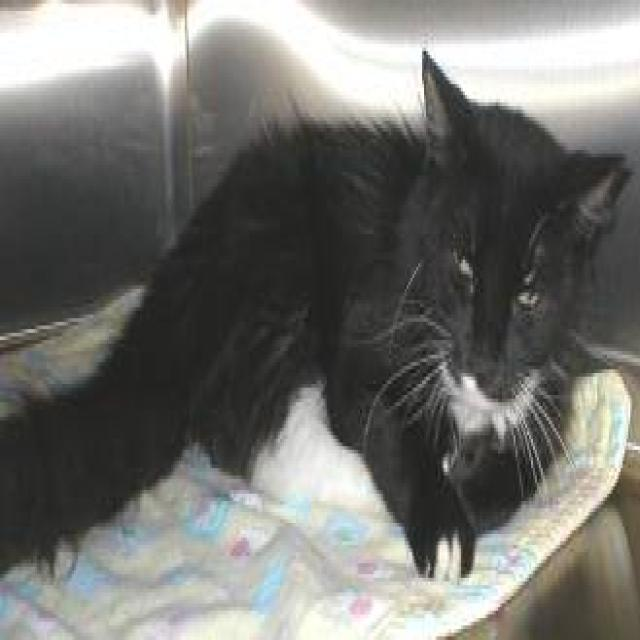cat: (0, 44, 632, 585)
